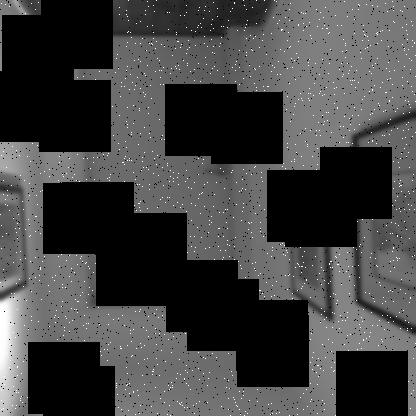Porte: (61, 22, 257, 322)
